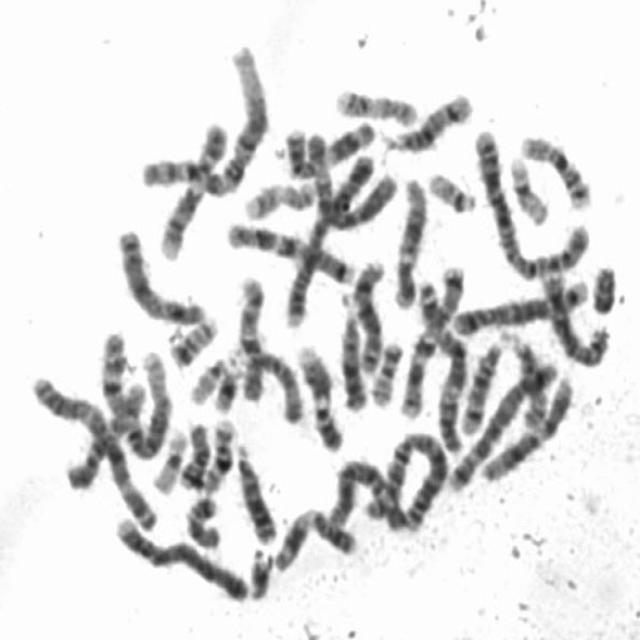A1: (134, 34, 272, 197), (93, 322, 176, 461)
A2: (464, 119, 591, 282), (356, 422, 451, 533)
A3: (25, 365, 159, 532), (408, 266, 471, 457)
B4: (277, 144, 378, 330), (107, 508, 250, 604)
B5: (440, 357, 573, 494), (446, 268, 592, 338)
C10: (59, 372, 150, 493), (230, 266, 268, 402)
C11: (266, 498, 359, 575), (278, 110, 376, 180)
C12: (465, 363, 577, 485), (385, 166, 430, 311)
C6: (300, 126, 400, 232), (322, 449, 410, 536)
C7: (394, 256, 468, 422), (219, 212, 357, 286)
C8: (534, 262, 612, 368), (348, 249, 388, 376)
C9: (151, 111, 230, 262), (290, 334, 346, 455)
D13: (228, 433, 280, 546), (333, 297, 370, 414)
D14: (377, 82, 475, 154), (453, 326, 510, 437)
D15: (231, 339, 307, 425), (497, 322, 551, 431)
E16: (513, 123, 595, 211), (192, 409, 239, 494)
E17: (327, 77, 421, 127), (238, 170, 320, 221)
E18: (172, 413, 212, 491), (178, 486, 223, 551)
F19: (502, 145, 552, 227), (144, 419, 191, 495)
F20: (163, 309, 221, 368), (363, 331, 406, 409)
G21: (206, 357, 242, 414), (242, 540, 272, 602)
G22: (420, 161, 479, 215), (184, 348, 236, 408)
X: (110, 218, 208, 326)
Y: (585, 254, 619, 316)
